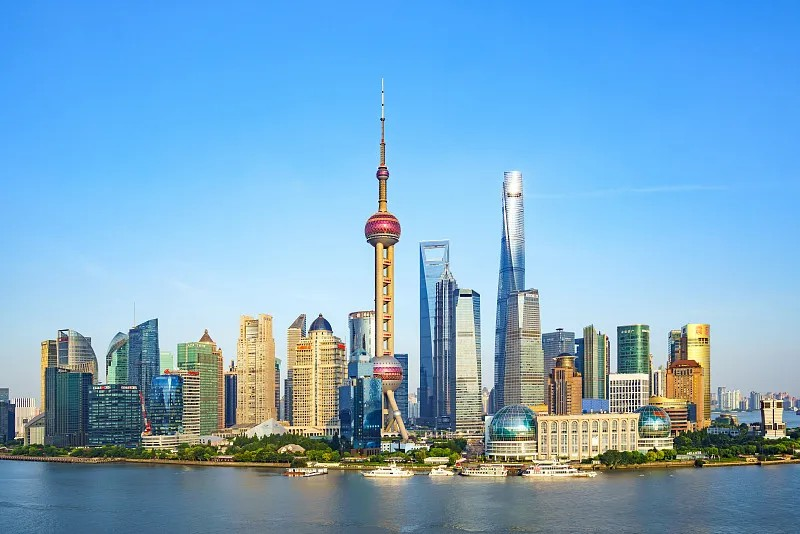Oriental: (364, 79, 411, 439)
